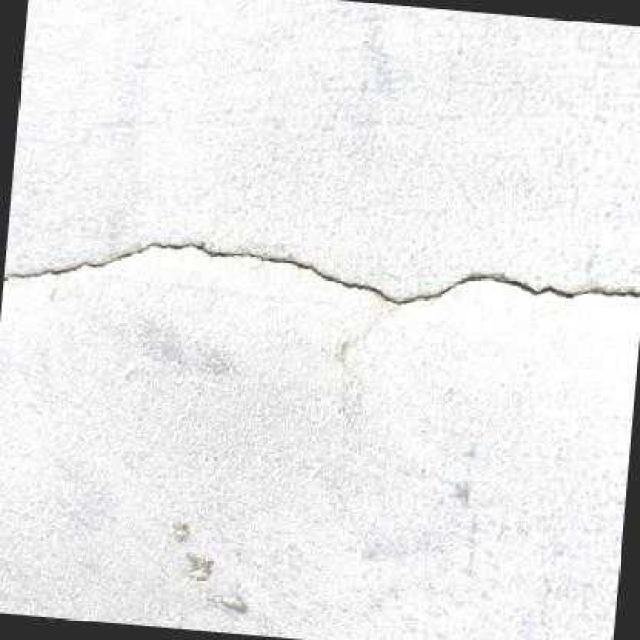D00: (2, 242, 640, 305)
